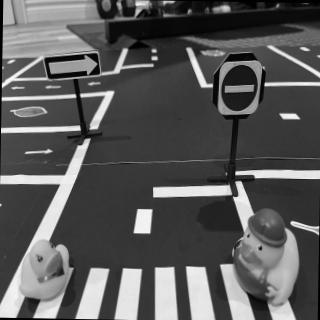duck_regular: (19, 240, 70, 303)
duck_specialty: (232, 210, 301, 309)
road_crosswalk: (32, 259, 298, 320)
road_oneway: (23, 147, 55, 158), (44, 84, 63, 92), (10, 84, 27, 92), (87, 81, 104, 89)
sign_noentry: (218, 60, 264, 116)
sign_oneway_right: (44, 51, 102, 82)
